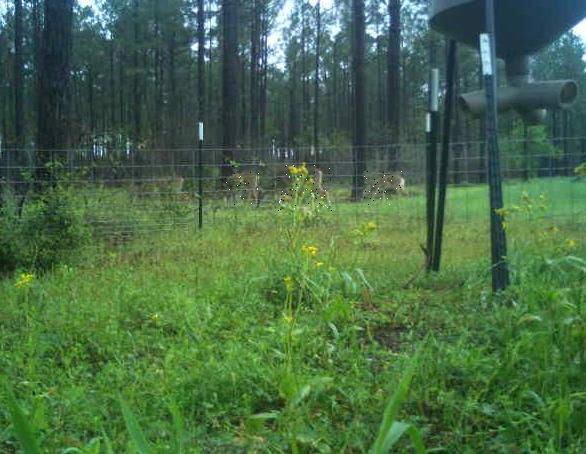Deer: (277, 165, 332, 215), (218, 169, 262, 206), (364, 172, 404, 206)
